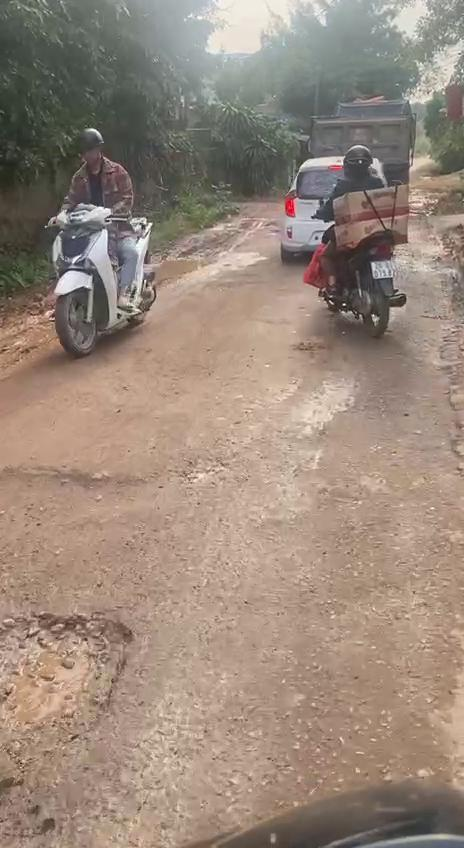pothole: (0, 602, 137, 774), (0, 454, 209, 555)
